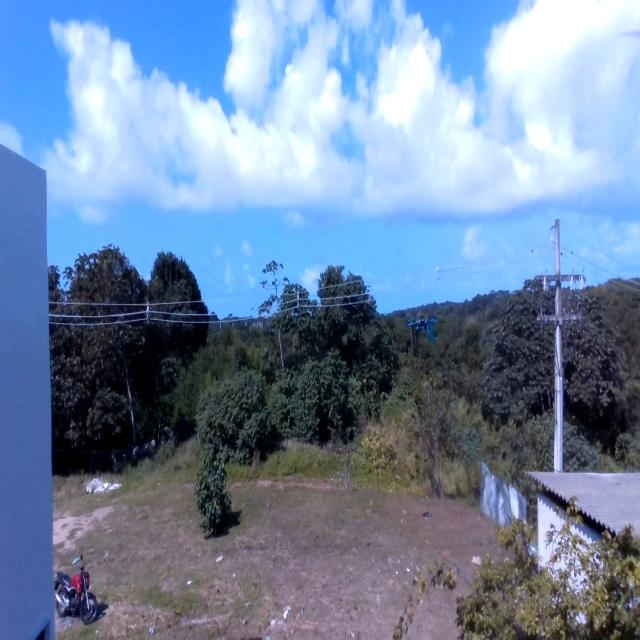-uav-: (404, 310, 439, 357)
